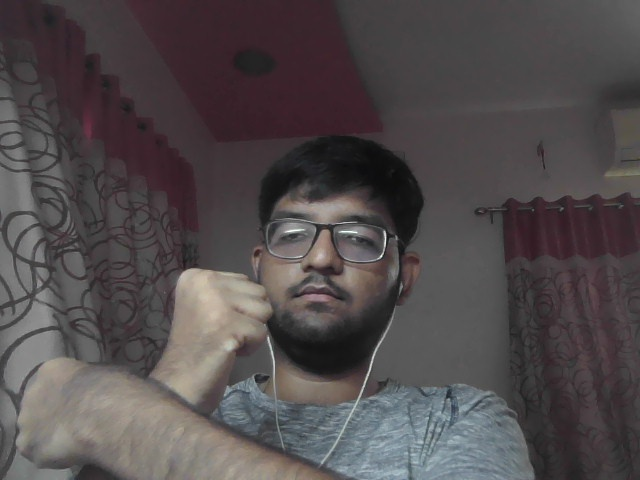પ્રેમ: (12, 258, 298, 479)
